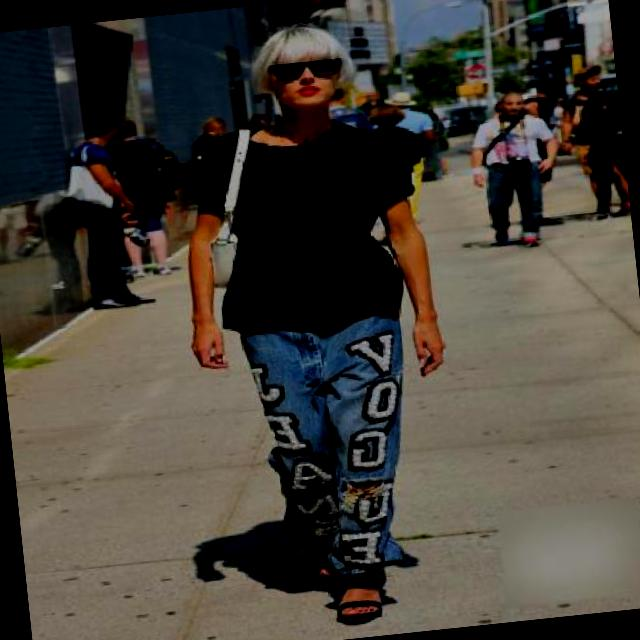Person: (150, 1, 510, 640)
